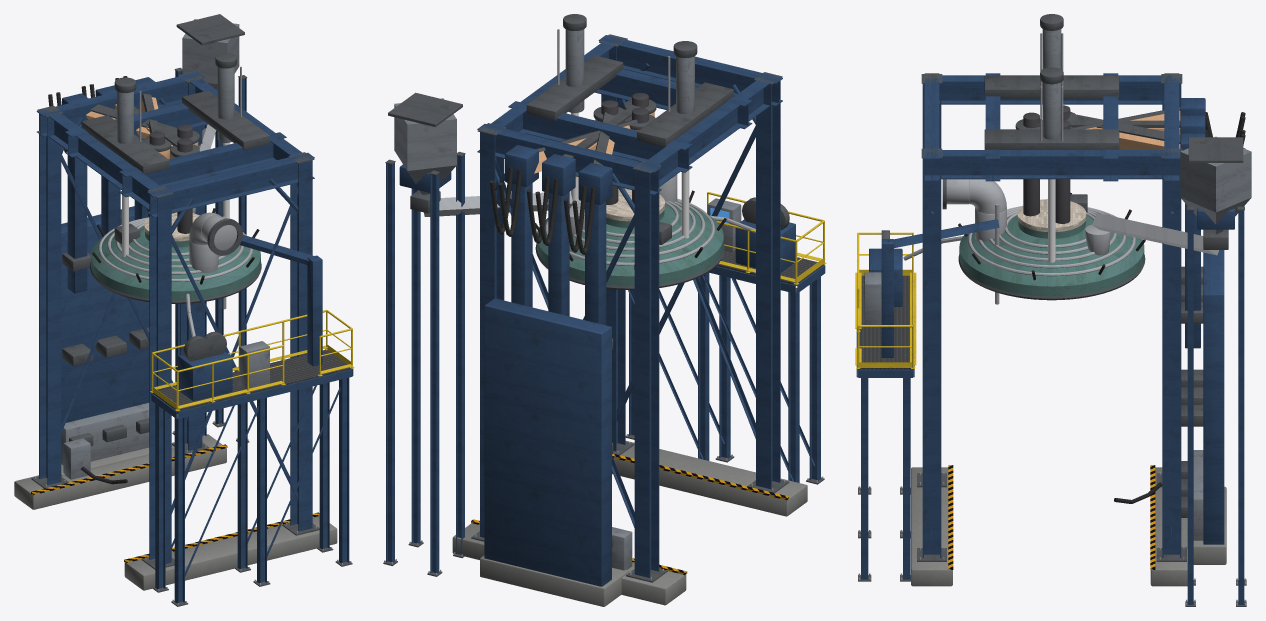
Rendered from ladle_furnace.glb.
The picture shows the model from 3 angles, left to right: view 1: azimuth 30°, elevation 25°; view 2: azimuth 150°, elevation 25°; view 3: azimuth 270°, elevation 25°; orthographic projection. The views are drawn at different scales.
Parts seen in each view (by area): view 1: LadleFurnace_geo, roof_geo, electrode_3_geo, electrode_1_geo, electrode_2_geo; view 2: LadleFurnace_geo, roof_geo, electrode_3_geo, electrode_1_geo, electrode_2_geo; view 3: LadleFurnace_geo, roof_geo, electrode_2_geo, electrode_1_geo, electrode_3_geo.
Part boxes in pixels (x1=…): LadleFurnace_geo: x1=14, y1=14, x2=354, y2=606; roof_geo: x1=90, y1=142, x2=261, y2=303; electrode_3_geo: x1=48, y1=92, x2=199, y2=293; electrode_1_geo: x1=81, y1=84, x2=199, y2=236; electrode_2_geo: x1=115, y1=76, x2=171, y2=219; LadleFurnace_geo: x1=383, y1=14, x2=826, y2=606; roof_geo: x1=535, y1=112, x2=726, y2=289; electrode_3_geo: x1=563, y1=100, x2=624, y2=325; electrode_1_geo: x1=526, y1=93, x2=656, y2=316; electrode_2_geo: x1=490, y1=107, x2=655, y2=307; LadleFurnace_geo: x1=855, y1=14, x2=1251, y2=606; roof_geo: x1=942, y1=179, x2=1145, y2=300; electrode_2_geo: x1=1063, y1=105, x2=1245, y2=348; electrode_1_geo: x1=1015, y1=112, x2=1245, y2=216; electrode_3_geo: x1=1055, y1=98, x2=1245, y2=223.
Bounding box in the file's own units: 7.05 × 12.85 × 9.42.
Materials: 18 (14 with a texture image).
